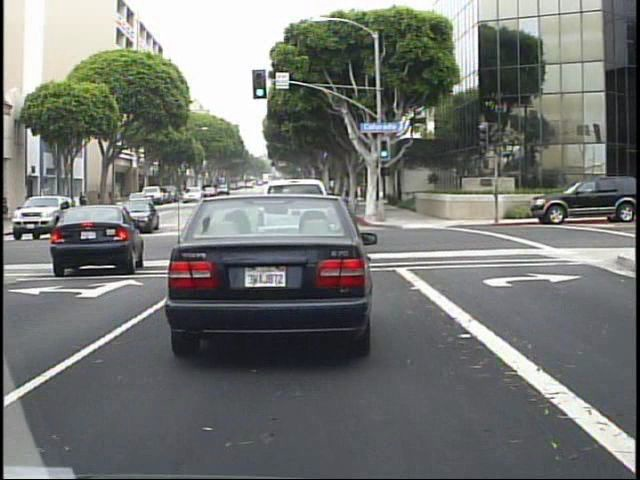person: (75, 187, 91, 221)
